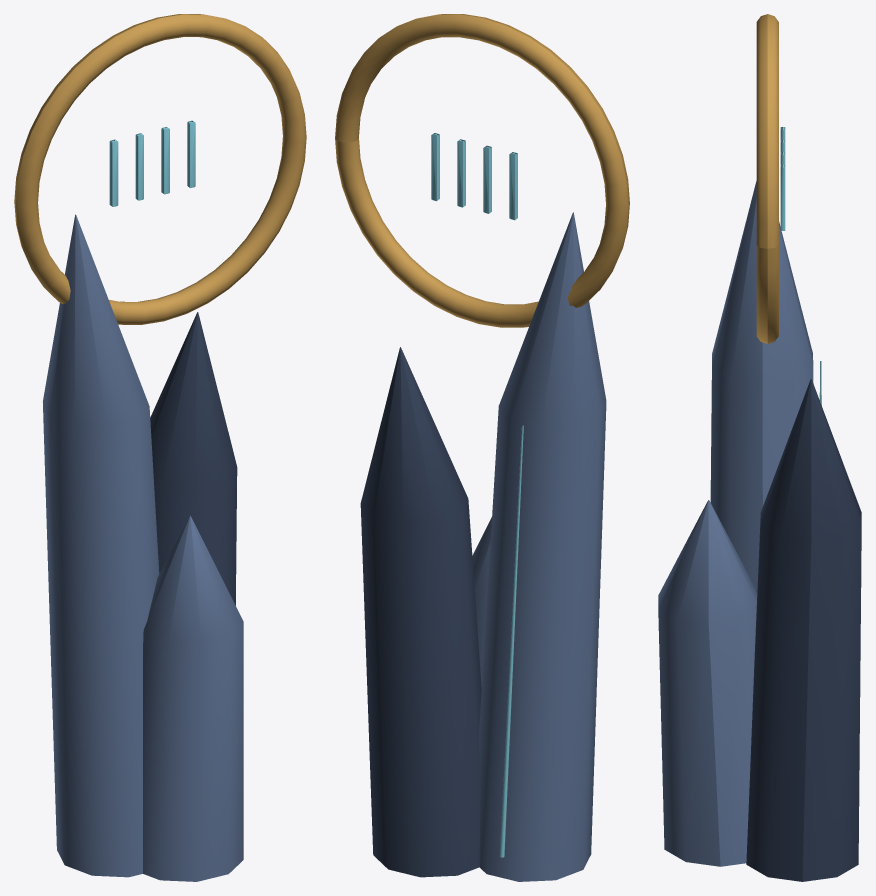
Rendered from prop_2_0.glb.
3 views of the same model, side by side, from view 1: azimuth 30°, elevation 25°; view 2: azimuth 150°, elevation 25°; view 3: azimuth 270°, elevation 25° (orthographic). The views are drawn at different scales.
Visible parts, largest first — view 1: MoonShard (×3), MoonDial, MoonDialMark (×4); view 2: MoonShard (×3), MoonDial, MoonDialMark (×4), CrystalVein; view 3: MoonShard (×3), MoonDial.
Part boxes in pixels (left/top/right/bottom): MoonShard (×3): left=43, top=214, right=243, bottom=881; MoonDial: left=14, top=14, right=306, bottom=324; MoonDialMark (×4): left=109, top=120, right=195, bottom=206; MoonShard (×3): left=360, top=212, right=606, bottom=881; MoonDial: left=335, top=14, right=629, bottom=327; MoonDialMark (×4): left=431, top=133, right=517, bottom=220; CrystalVein: left=499, top=425, right=523, bottom=857; MoonShard (×3): left=658, top=181, right=861, bottom=881; MoonDial: left=756, top=14, right=778, bottom=343.
Bounding box in the file's own units: 2.8 × 7.6 × 1.72.
